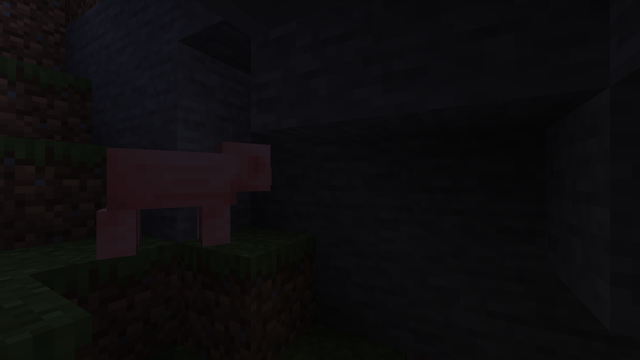cochons: (101, 142, 244, 261)
